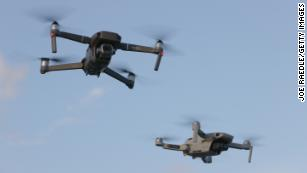drone: (33, 15, 179, 89), (152, 118, 253, 165)
